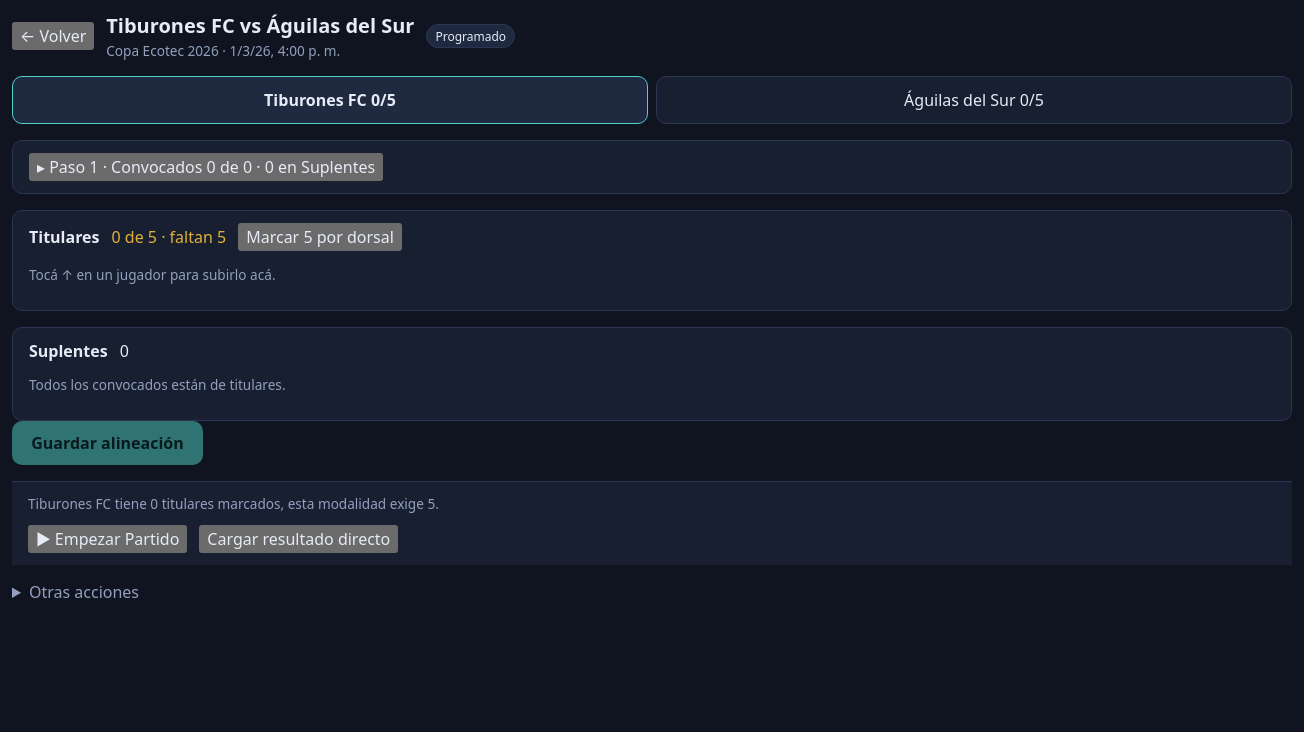
Test: GestionarPartido — la plantilla tiene que llegar a la pantalla › un roster vacío lo dice, en vez de no renderizar nada
Click the button "▸ Paso 1 · Convocados 0 de 0 · 0 en Suplentes": x=206, y=167 x1=29 y1=153 x2=383 y2=181
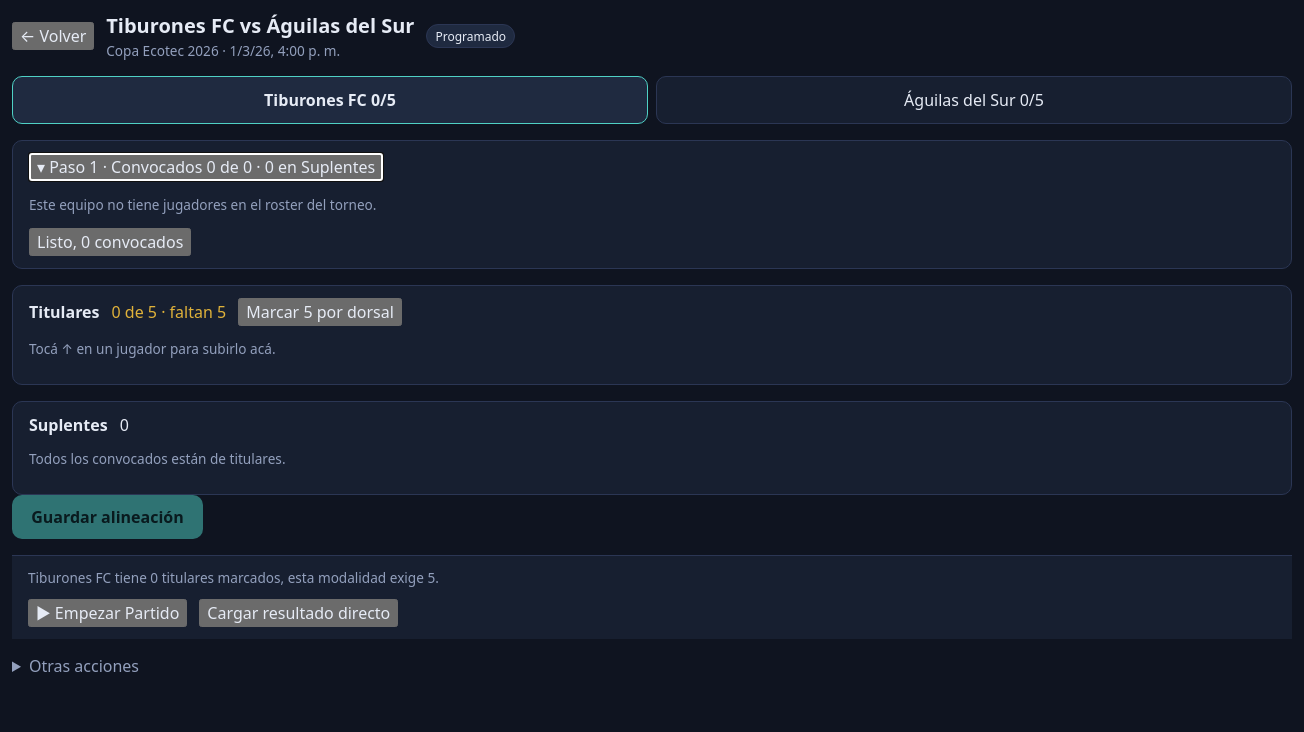
Check: the text "Este equipo no tiene jugadores en el roster del torneo." is shown, box x1=29 y1=195 x2=376 y2=214
